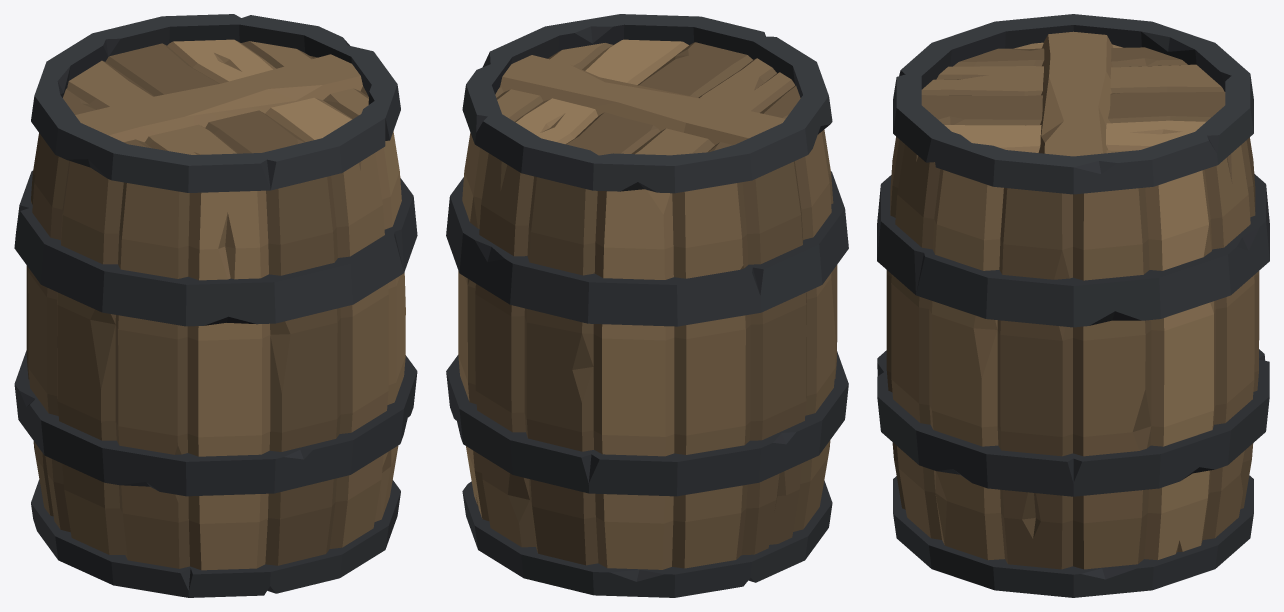
The model's file is SM_Prop_Barrel_04.fbx.
The picture shows the model from 3 angles, left to right: view 1: azimuth 30°, elevation 25°; view 2: azimuth 150°, elevation 25°; view 3: azimuth 270°, elevation 25°; orthographic projection.
Parts seen in each view (by area): view 1: SM_Prop_Barrel_04; view 2: SM_Prop_Barrel_04; view 3: SM_Prop_Barrel_04.
Part boxes in pixels (x1=…): SM_Prop_Barrel_04: x1=14, y1=14, x2=417, y2=597; SM_Prop_Barrel_04: x1=446, y1=14, x2=848, y2=597; SM_Prop_Barrel_04: x1=877, y1=14, x2=1269, y2=597.
Bounding box in the file's own units: 173 × 204 × 169.
